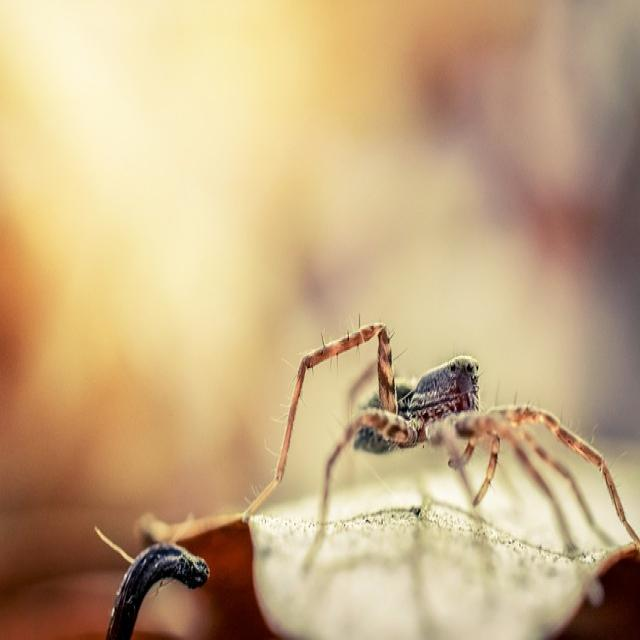spyder: (244, 323, 640, 551)
